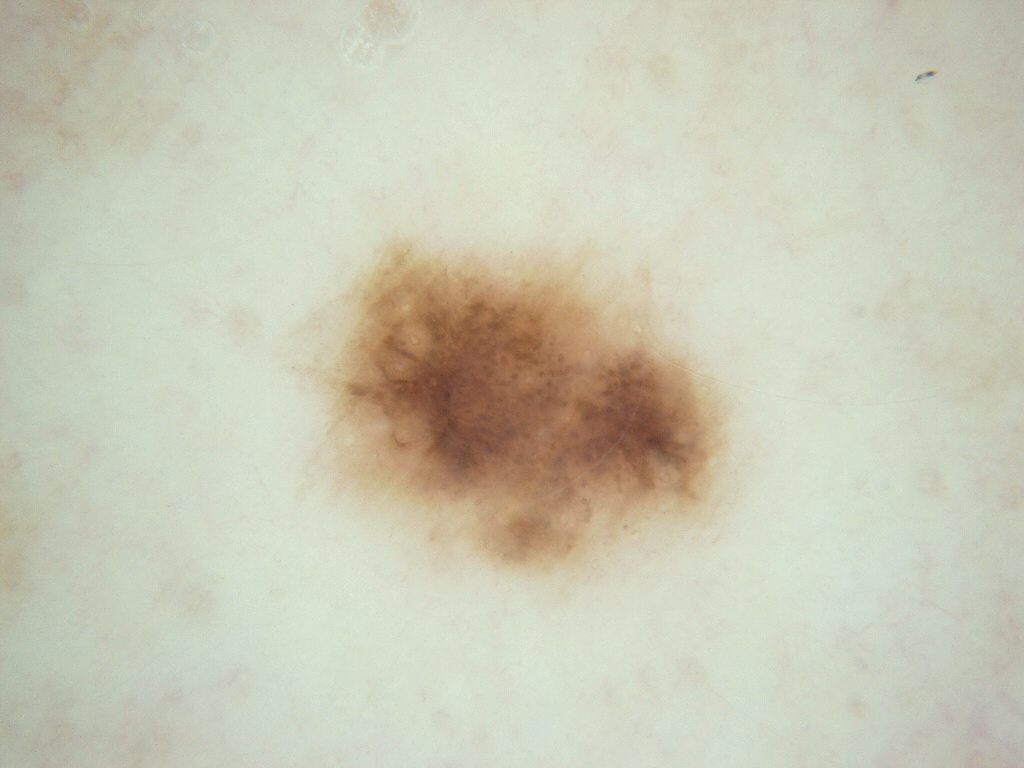Detected Lesion: (309, 229, 740, 570)
